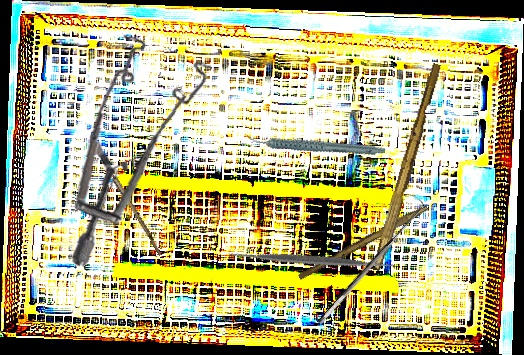Handpiece: (245, 105, 387, 183)
Hook Surgical: (307, 194, 430, 327)
Scalpel Handle: (372, 61, 443, 274), (297, 201, 429, 283)
Spatula Surgical: (222, 171, 402, 350)
Speculum: (56, 27, 225, 269)
Surgical Spoon: (93, 147, 165, 257)
